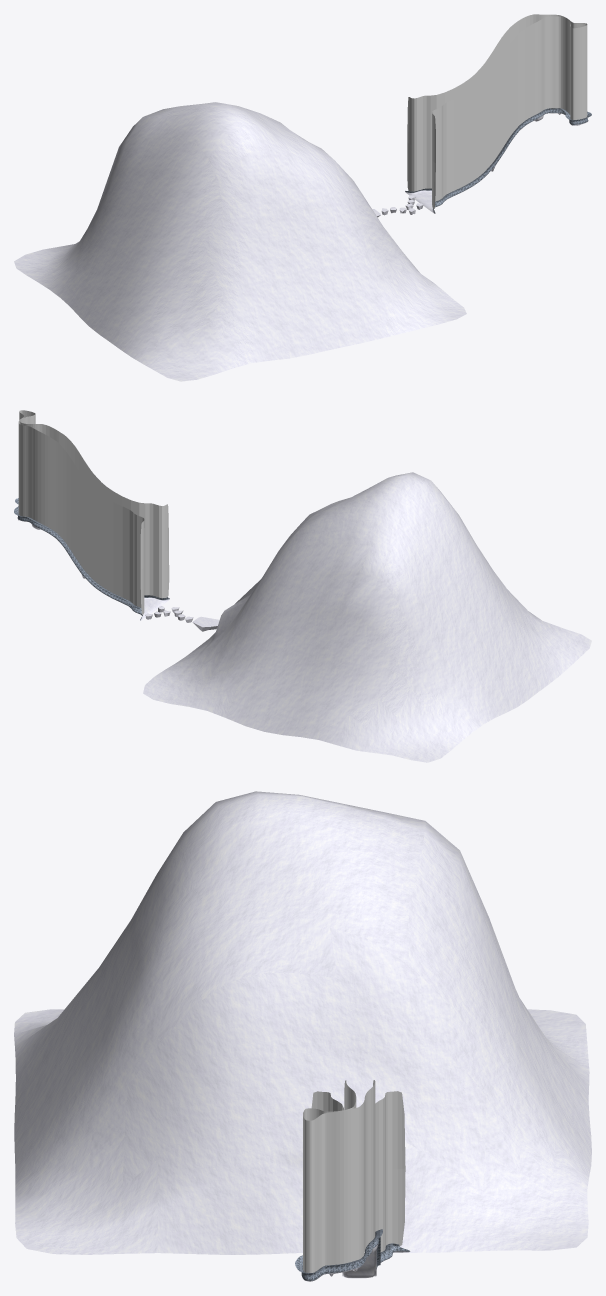
Rendered from final map.fbx.
3 renders of one model, top to bottom at view 1: azimuth 30°, elevation 25°; view 2: azimuth 150°, elevation 25°; view 3: azimuth 270°, elevation 25°, orthographic. The views are drawn at different scales.
Parts seen in each view (by area): view 1: Plane.011, Boundary, Plane; view 2: Plane.011, Boundary, Plane; view 3: Plane.011, Boundary, Plane.
Boxes of the visible parts, bbox=[...] form: Plane.011: bbox=[14, 102, 466, 381]; Boundary: bbox=[407, 14, 587, 208]; Plane: bbox=[405, 108, 591, 213]; Plane.011: bbox=[143, 472, 591, 762]; Boundary: bbox=[18, 410, 169, 614]; Plane: bbox=[14, 498, 169, 620]; Plane.011: bbox=[14, 791, 591, 1254]; Boundary: bbox=[303, 1080, 405, 1272]; Plane: bbox=[295, 1229, 410, 1281].
Size of the model in its own units: 68059 by 25160 by 40750.
